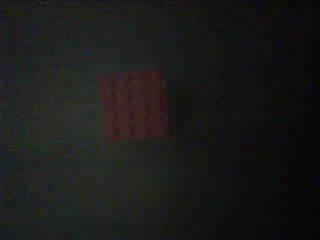lego: (98, 69, 173, 142)
